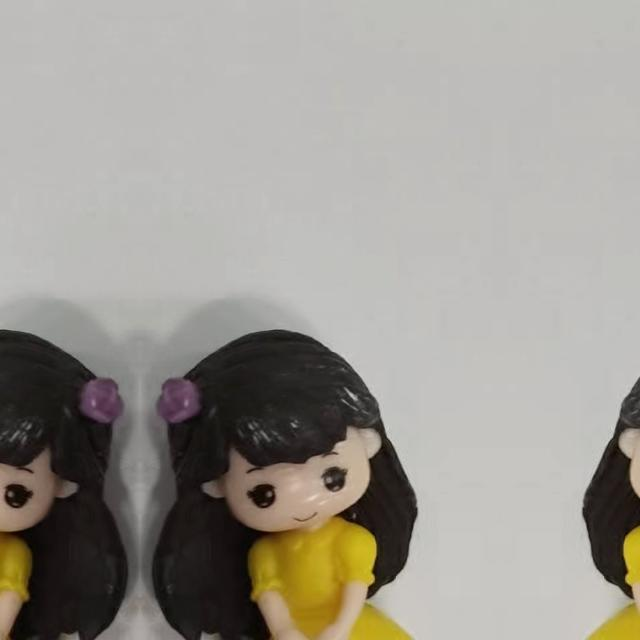woman head: (166, 327, 418, 579), (0, 327, 114, 579), (582, 327, 640, 579)
